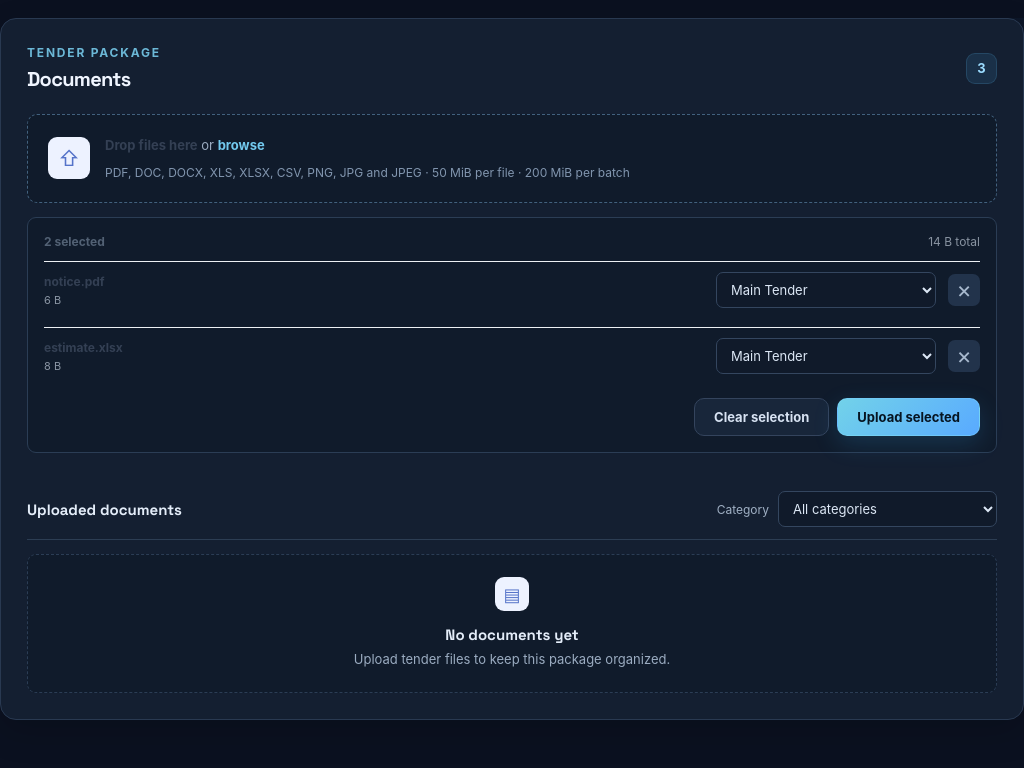
Test: tender document management › selects multiple files, assigns individual categories and removes a selected file
Earlier steps of the test are not shown.
Expected: the text "2 selected" is shown, [44,234,105,249]
Select "Boq" in the dropdown named "Category for estimate.xlsx" at x=826, y=356, box [716,338,936,374]
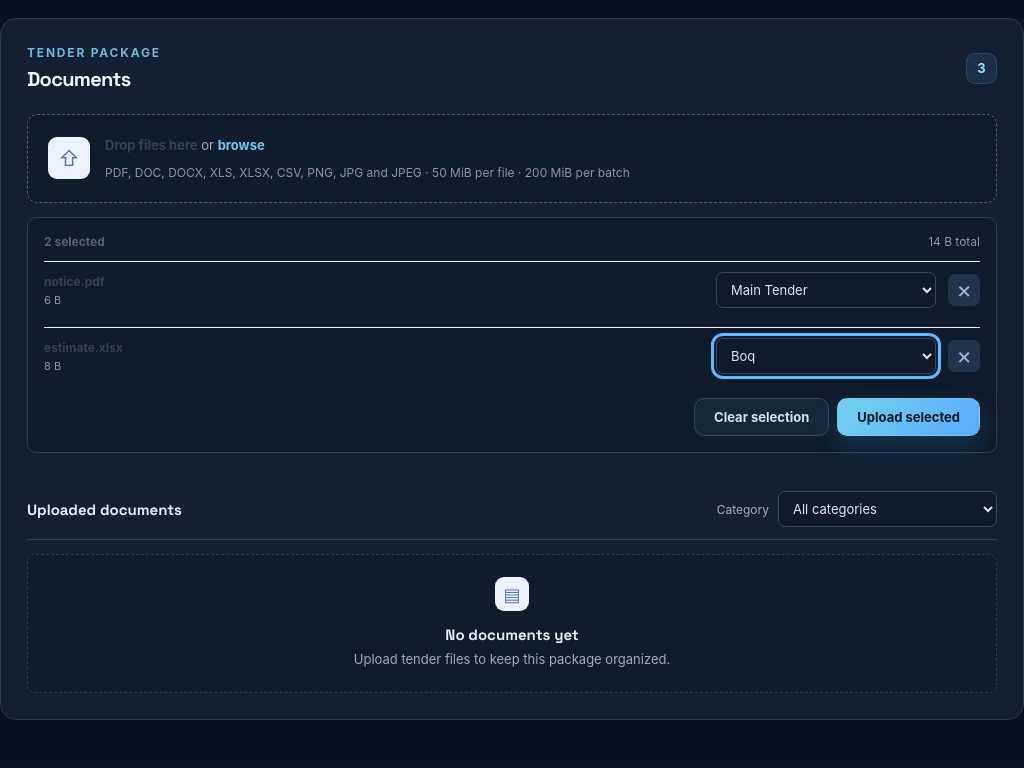
Click the button named "Remove notice.pdf" at x=964, y=290, box [948,274,980,306]
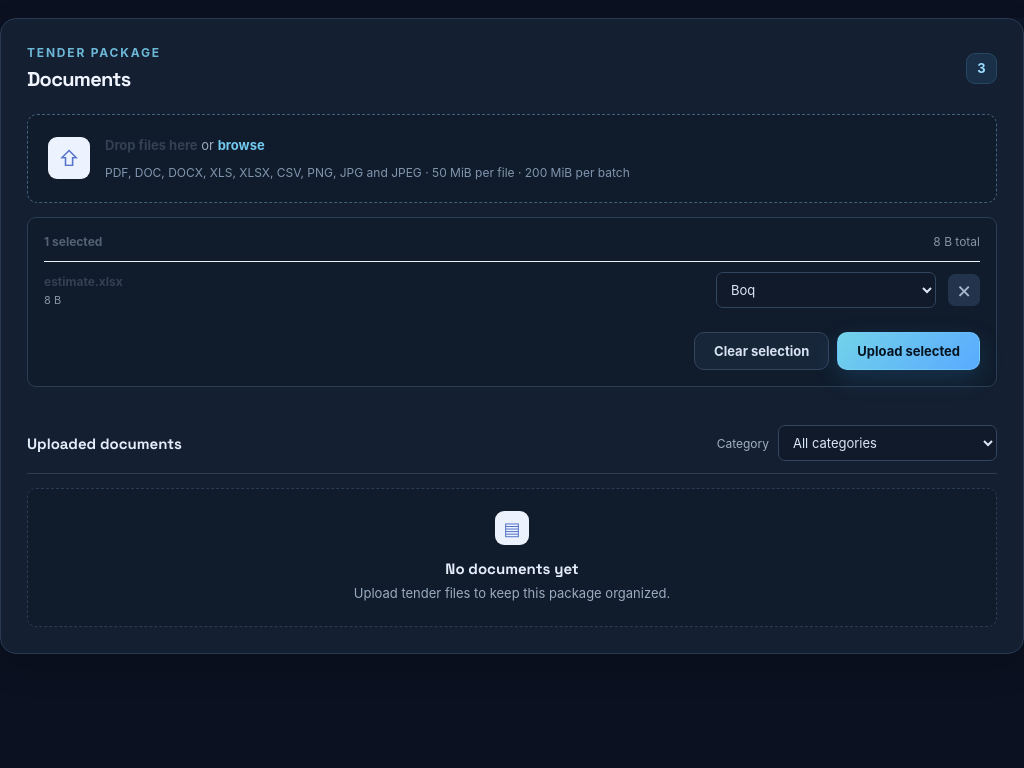
Expected: the text "estimate.xlsx" is shown, [44,274,123,288]
Now the text "notice.pdf" is gone
Now the text "1 selected" is shown, box [44,234,102,249]
